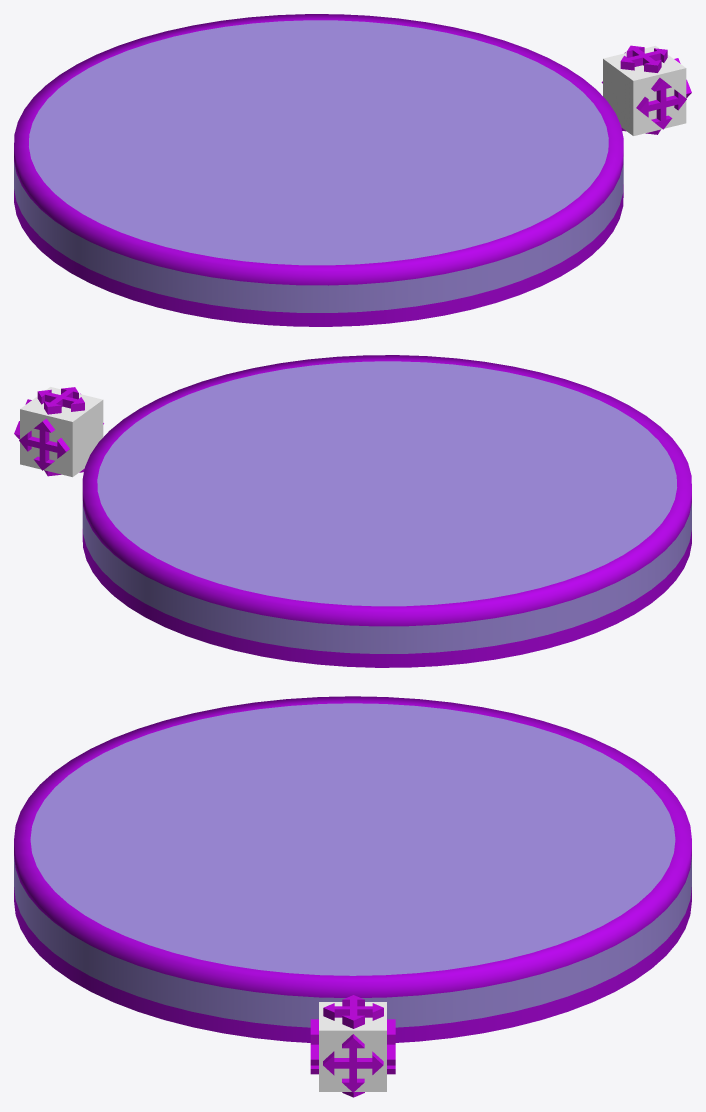
File: Dais.fbx
3 views of the same model, one above another, from view 1: azimuth 30°, elevation 25°; view 2: azimuth 150°, elevation 25°; view 3: azimuth 270°, elevation 25° (orthographic). The views are drawn at different scales.
Visible parts, largest first — view 1: Dais5, Dais2, Dais1, Dais3, MovingCube, Arrows1, Arrows3; view 2: Dais5, Dais2, Dais1, Dais3, MovingCube, Arrows2, Arrows3; view 3: Dais5, Dais2, Dais1, Dais3, MovingCube, Arrows4, Arrows3.
Part boxes in pixels (x1,y1,x2,y2): Dais5: [29, 20, 608, 265]; Dais2: [14, 14, 623, 285]; Dais1: [14, 157, 623, 312]; Dais3: [14, 184, 623, 326]; MovingCube: [603, 45, 686, 135]; Arrows1: [636, 77, 686, 129]; Arrows3: [620, 45, 667, 72]; Dais5: [97, 361, 677, 606]; Dais2: [82, 355, 691, 626]; Dais1: [82, 501, 691, 653]; Dais3: [82, 529, 691, 667]; MovingCube: [20, 387, 103, 477]; Arrows2: [19, 418, 69, 470]; Arrows3: [37, 387, 84, 414]; Dais5: [30, 703, 675, 975]; Dais2: [14, 696, 691, 997]; Dais1: [14, 856, 691, 1027]; Dais3: [14, 887, 691, 1042]; MovingCube: [319, 1002, 386, 1091]; Arrows4: [323, 1034, 383, 1092]; Arrows3: [323, 995, 383, 1028].
Bounding box in the file's own units: 2.36 × 0.2508 × 2.
